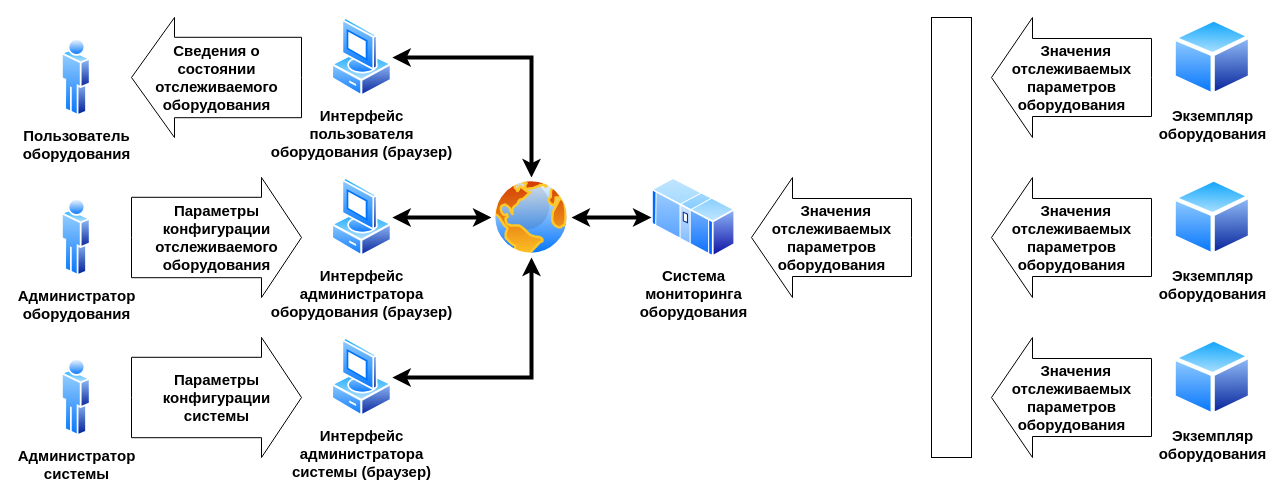
This 1283x501 diagram has some shape labels left out. Here are the shapes that lost their labels. From the top down, the centre of each, then its label:
[531,217]: Интернет
[951,237]: Локальная IP-сеть
